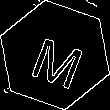M_N: (23, 24, 87, 86)
